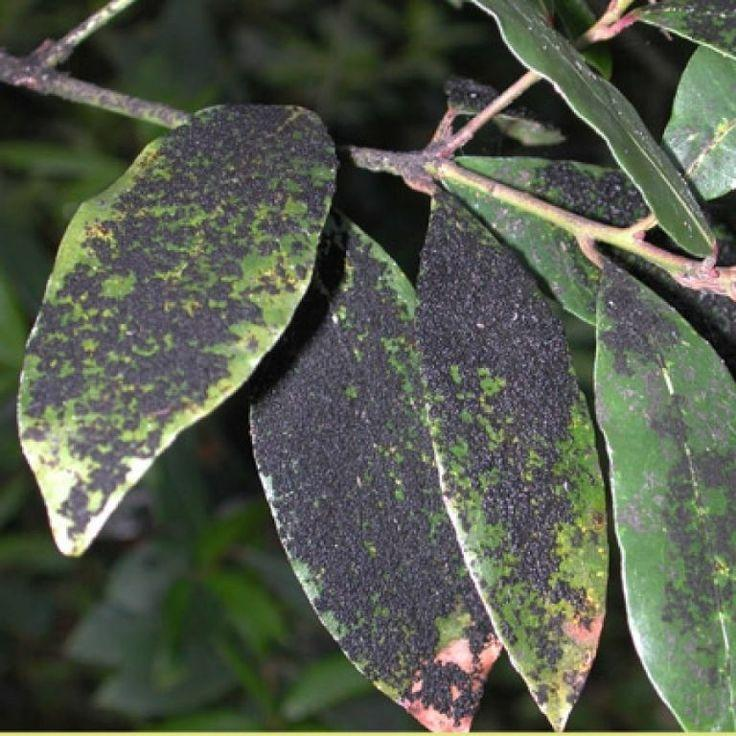soot dew: (15, 104, 340, 559), (251, 209, 500, 725), (422, 192, 605, 711), (650, 389, 733, 688), (594, 261, 684, 378), (534, 165, 653, 230)
